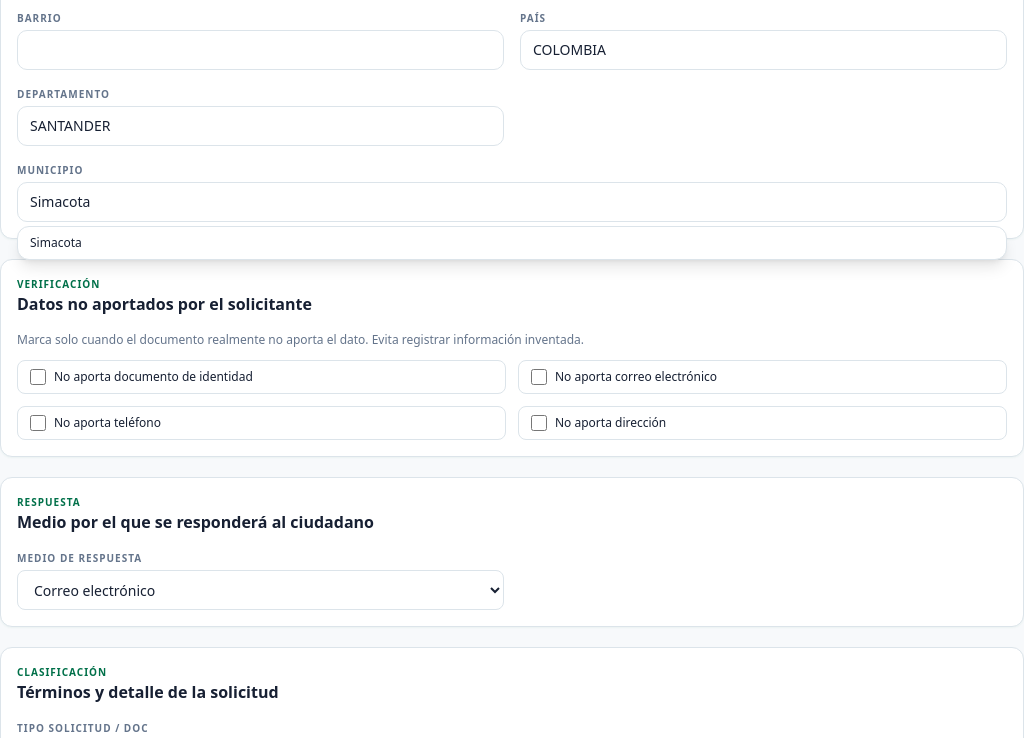
Recepción — radicar sin documento de identidad › al desmarcar la casilla el campo vuelve a ser required y editable
(page scrolled)
What coordinates should you click on to do the following:
click the checkbox labelled "No aporta documento de identidad"
I would click on:
 (38, 377)
Its box is [30,369,46,385].
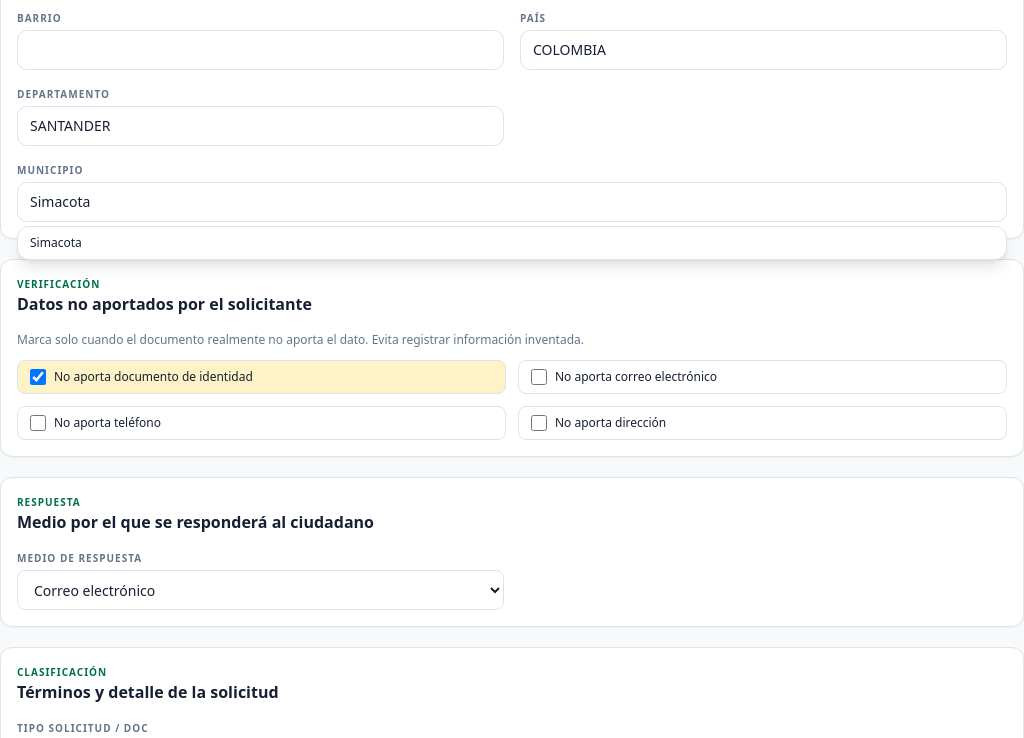
What coordinates should you click on to do the following:
click the checkbox labelled "No aporta documento de identidad"
I would click on:
 (38, 377)
Its box is [30,369,46,385].
(page scrolled)
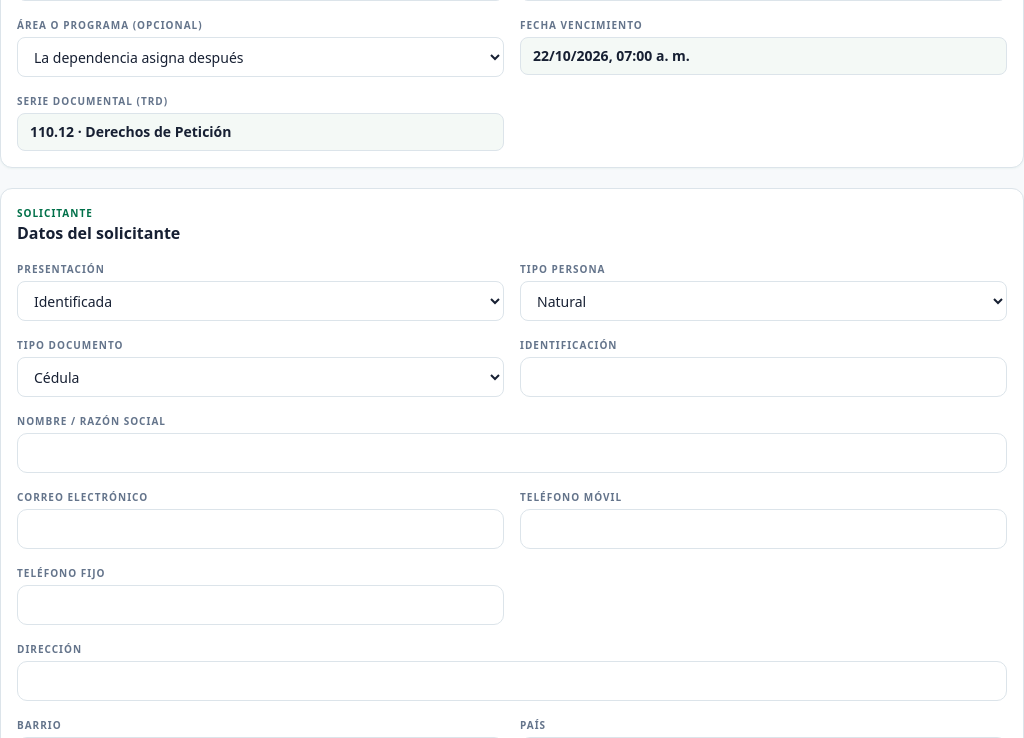
Expected: the field labelled "Identificación" is enabled, [520,357,1007,397]
